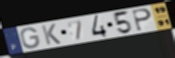4: (90, 14, 110, 38)
5: (110, 10, 133, 35)
7: (68, 20, 83, 41)
G: (20, 27, 42, 50)
K: (40, 23, 63, 46)
P: (131, 7, 153, 32)
